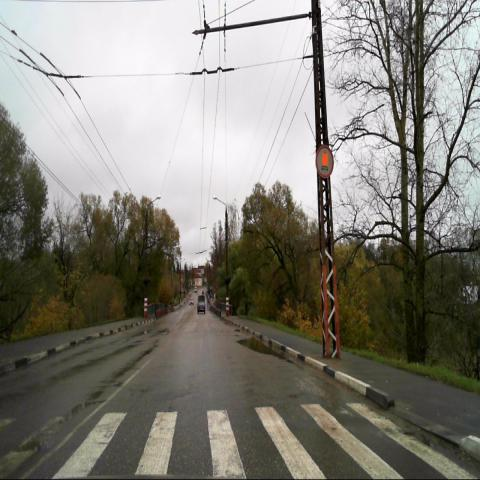3_32: (314, 145, 334, 179)
